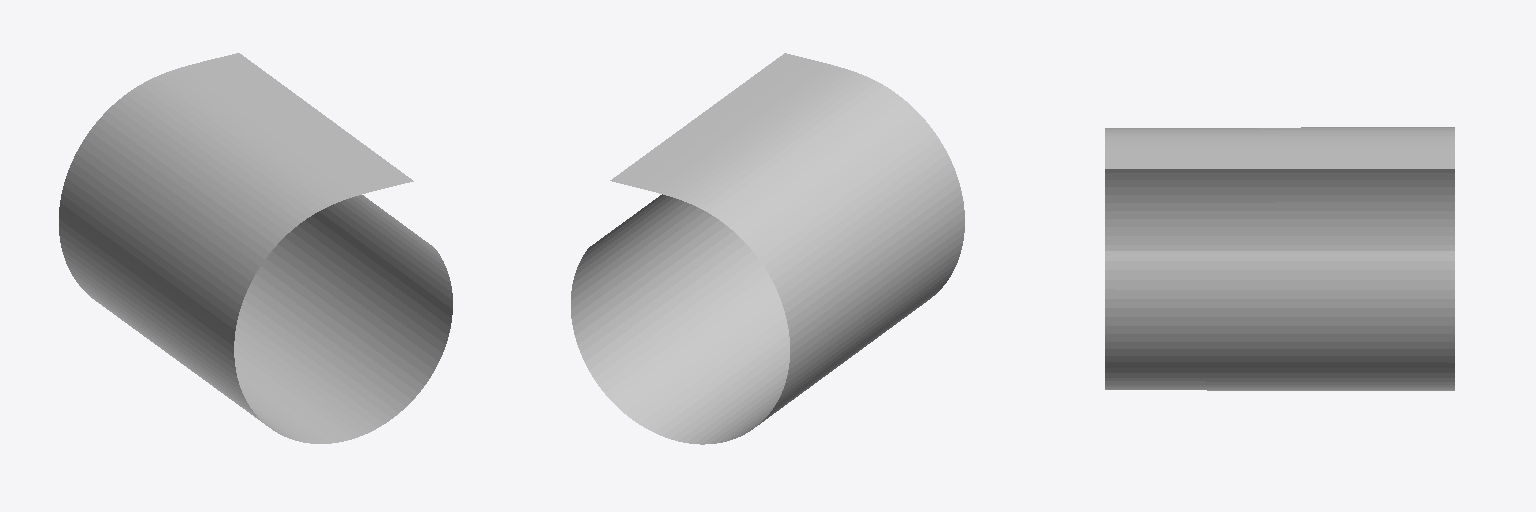
Rendered from CurvePaper_000011.obj.
3 views of the same model, side by side, from view 1: azimuth 30°, elevation 25°; view 2: azimuth 150°, elevation 25°; view 3: azimuth 270°, elevation 25° (orthographic).
Visible parts, largest first — view 1: Plane; view 2: Plane; view 3: Plane.
Part boxes in pixels (x1,y1,x2,y2): Plane: (59, 53, 452, 443); Plane: (571, 53, 964, 444); Plane: (1105, 127, 1454, 390).
Bounding box in the file's own units: 1.64 × 1.74 × 2.26.